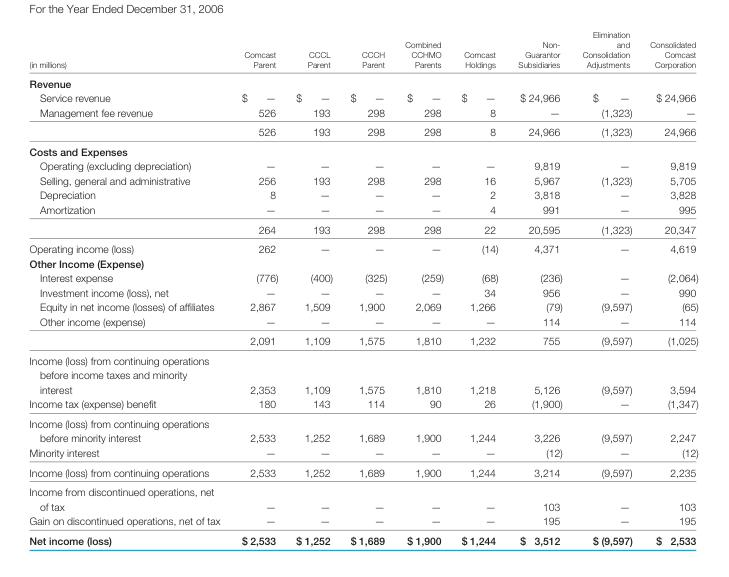table: (28, 28, 697, 546)
table column: (28, 28, 230, 546), (571, 28, 640, 546), (507, 28, 571, 546), (640, 28, 697, 546), (230, 28, 286, 546), (395, 28, 451, 546), (451, 28, 507, 546), (340, 28, 395, 546), (286, 28, 340, 546)
table column header: (28, 28, 697, 72)
table projected row header: (28, 72, 697, 90), (28, 141, 697, 158), (28, 255, 697, 269)
table row: (28, 350, 697, 396), (28, 28, 697, 72), (28, 481, 697, 513), (28, 413, 697, 444), (28, 121, 697, 141), (28, 218, 697, 238), (28, 330, 697, 350), (28, 461, 697, 481), (28, 72, 697, 90), (28, 104, 697, 121), (28, 141, 697, 158), (28, 201, 697, 218), (28, 238, 697, 255), (28, 313, 697, 330), (28, 396, 697, 413), (28, 444, 697, 461), (28, 513, 697, 530), (28, 530, 697, 546), (28, 172, 697, 187), (28, 269, 697, 284), (28, 284, 697, 299), (28, 90, 697, 104), (28, 158, 697, 172), (28, 187, 697, 201), (28, 255, 697, 269), (28, 299, 697, 313)
